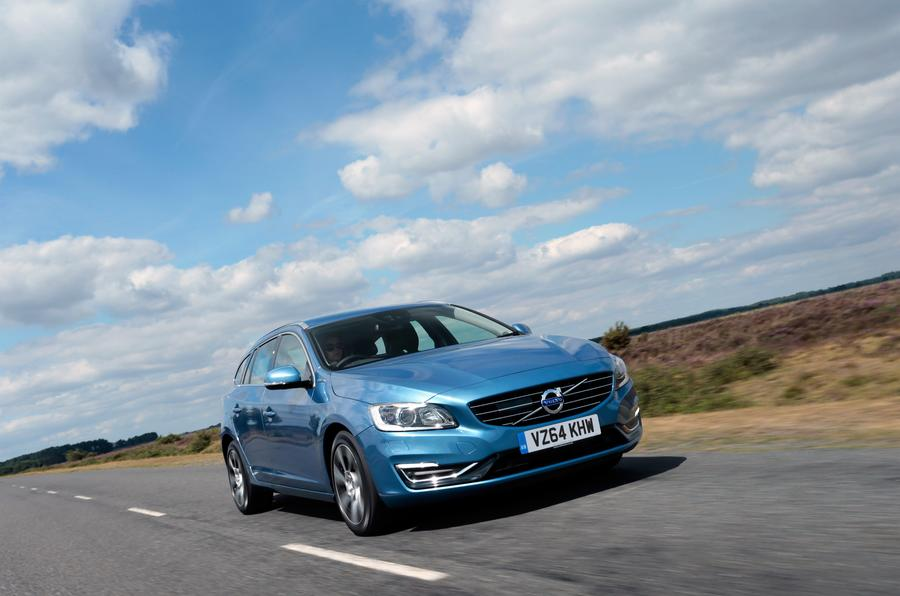car: (219, 299, 643, 540)
